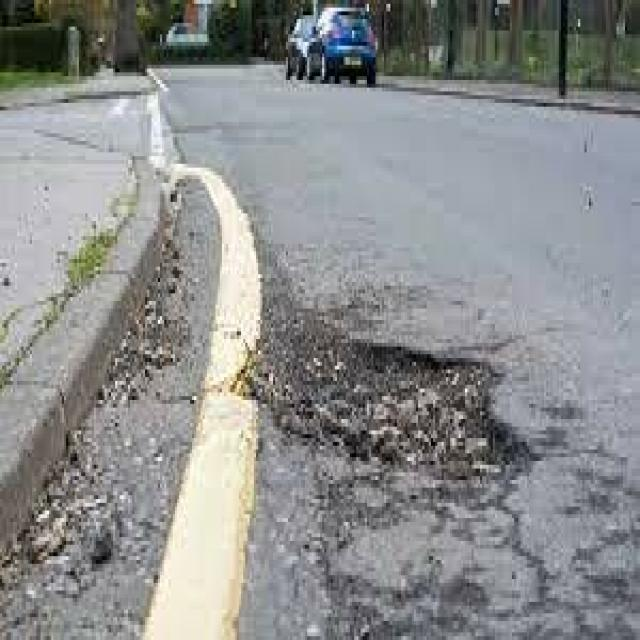Pothole: (245, 274, 578, 514)
